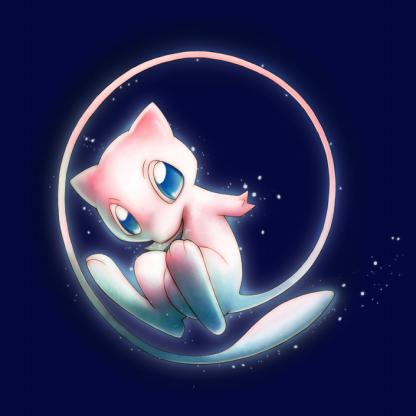Mew: (33, 37, 357, 385)
